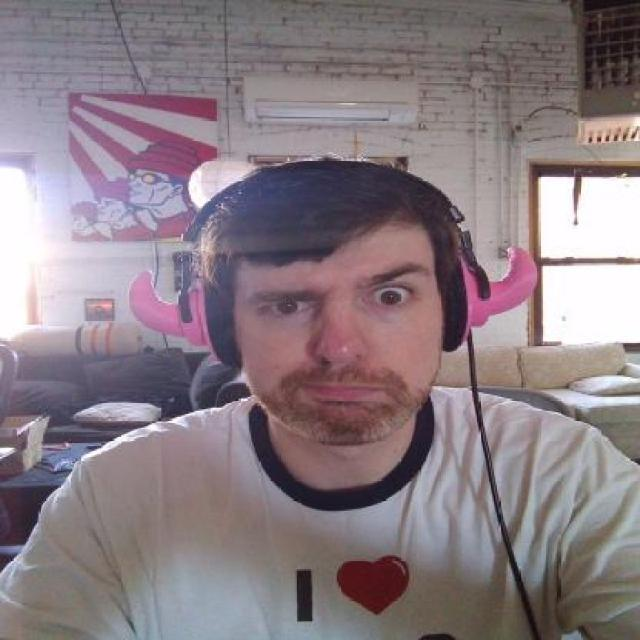earphone: (125, 178, 563, 344)
